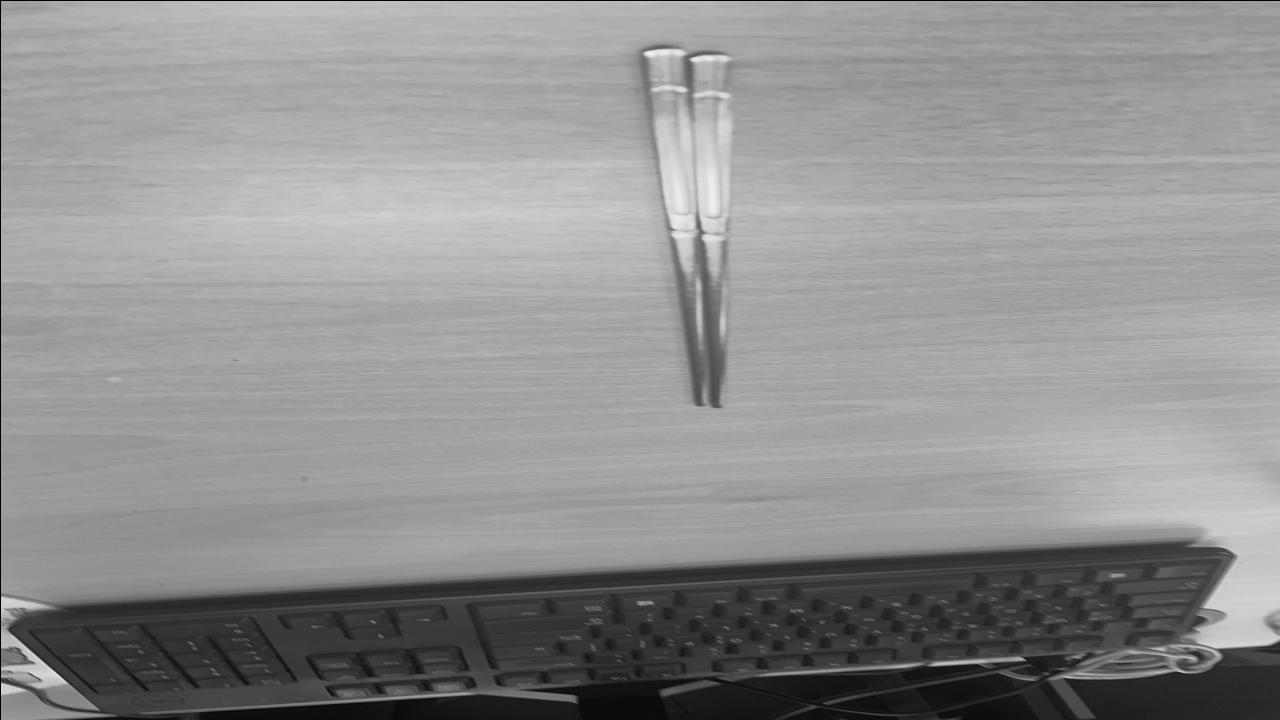chopstick: (645, 48, 734, 406)
